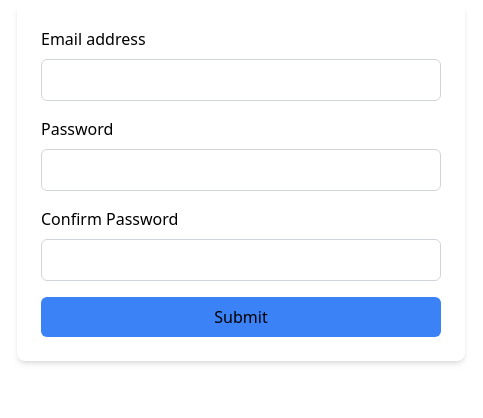
Scenario: 05-form-testing › should show email error if email is invalid
The width and height of the screenshot is (483, 418).
Check: the text "invalid email" is not shown
Type "invalid" into the field labelled "Email address". click: (241, 80)
box: left=41, top=59, right=441, bottom=101
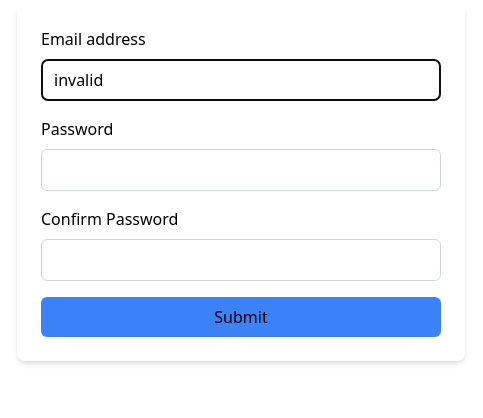
Click the button "Submit". click: (241, 317)
box: left=41, top=297, right=441, bottom=337
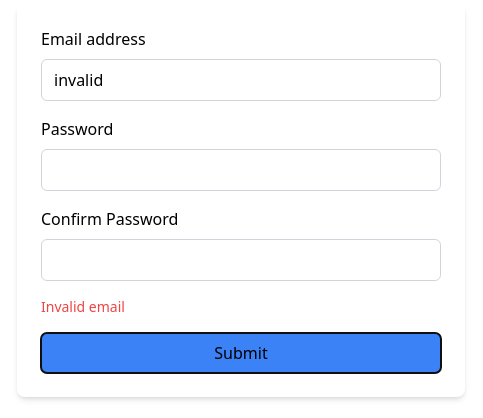
Check: the text "Invalid email" is shown, box left=41, top=297, right=125, bottom=316
